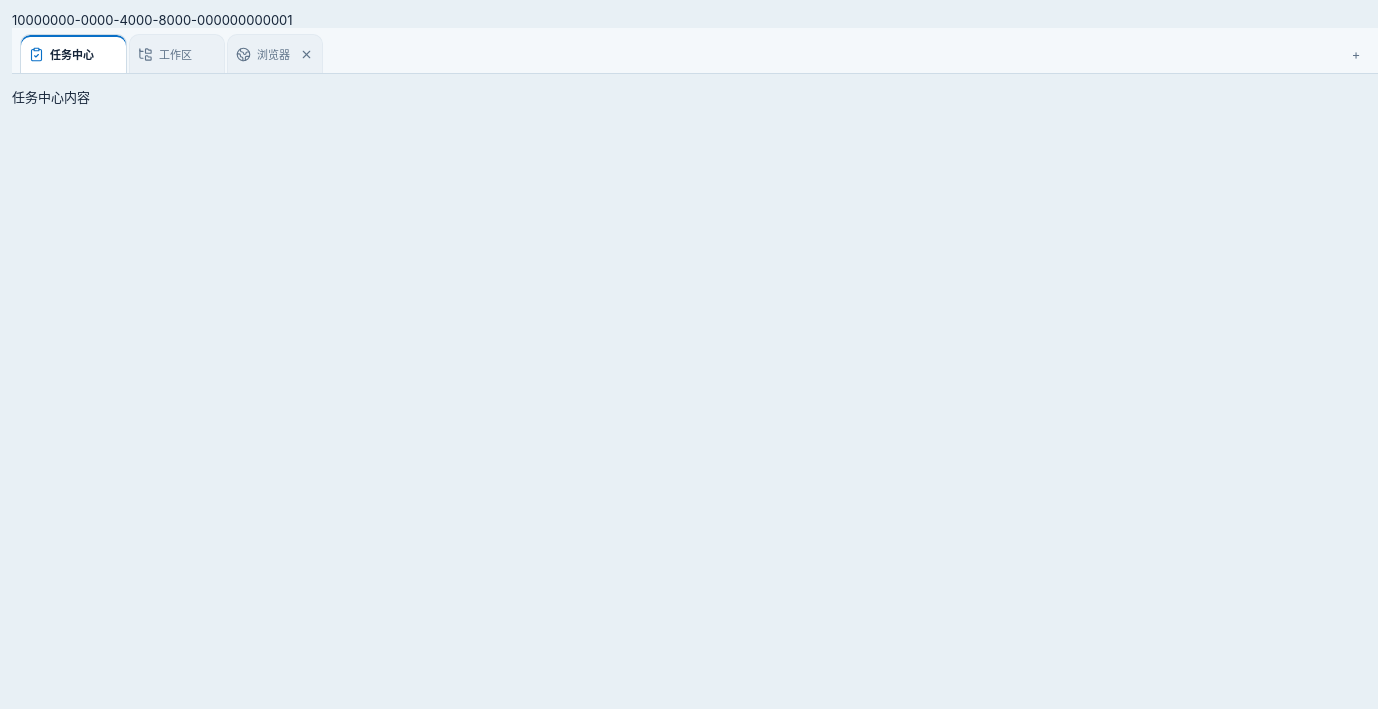
WorkbarShell › opens the catalog, focuses its first choice, and restores add-button focus on Escape
Click the button named "打开工作栏应用": [1356, 54] box 1342,40 -> 1370,68
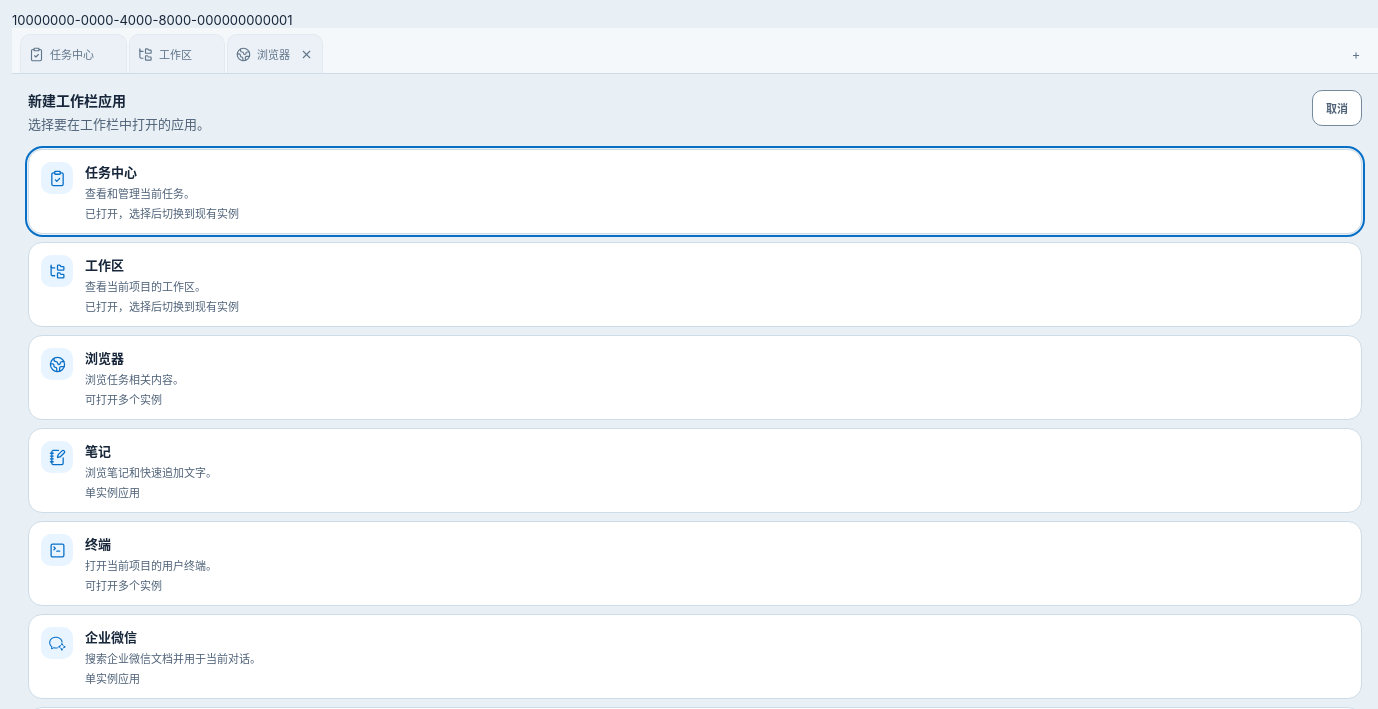
Result: the heading "新建工作栏应用" is shown at 28,92 -> 126,109
Press Escape in the button "任务中心 查看和管理当前任务。 已打开，选择后切换到现有实例", box 29,150 -> 1361,233
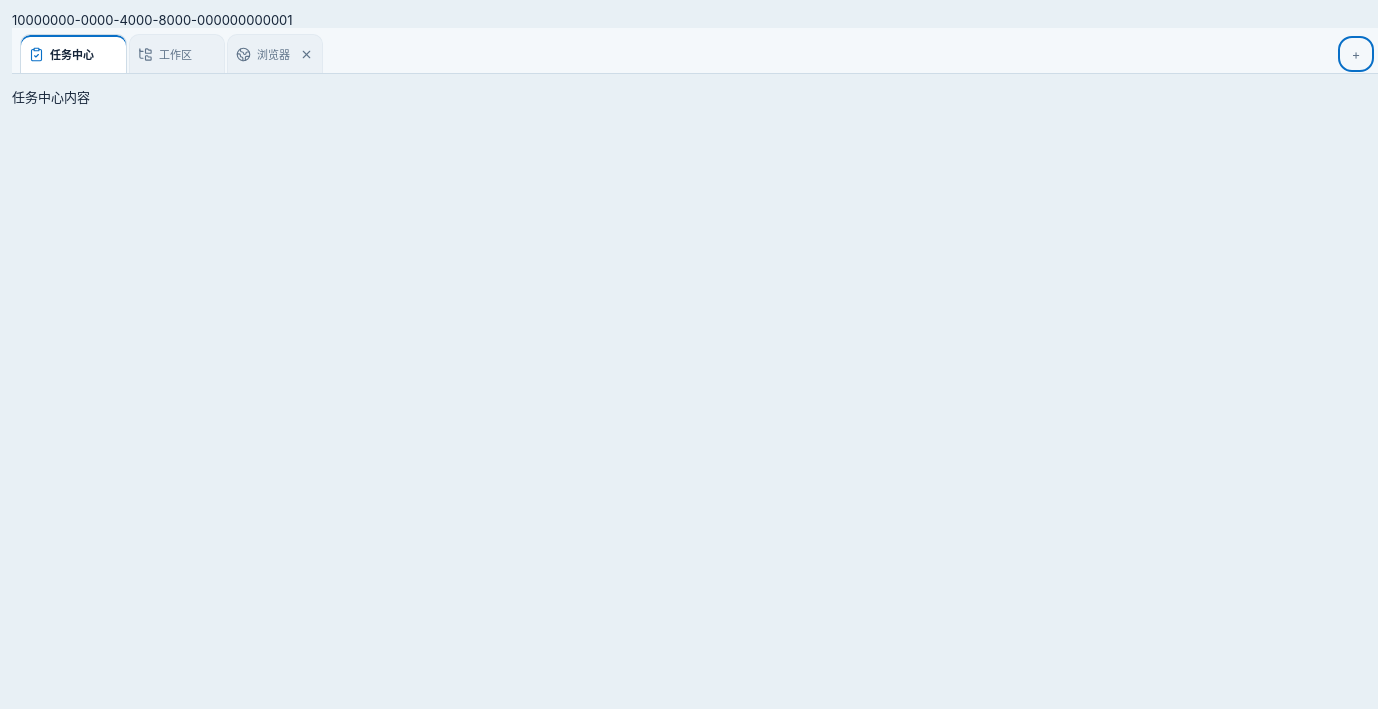
Result: the heading "新建工作栏应用" is gone
